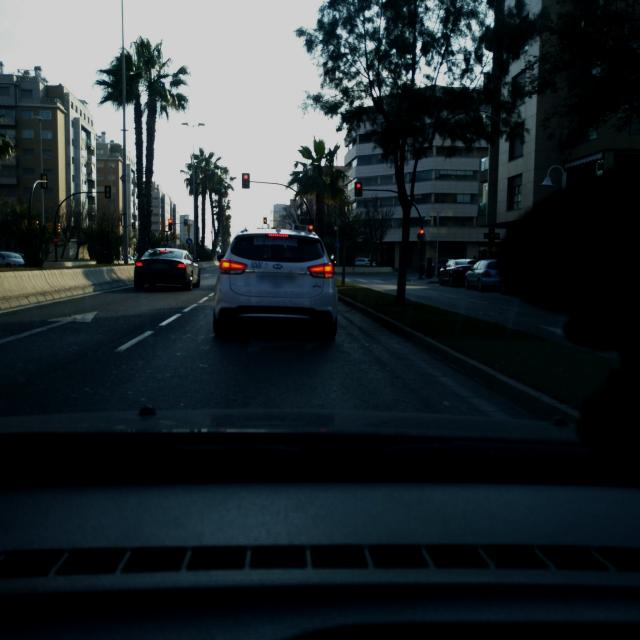car: (212, 229, 338, 339), (133, 247, 201, 291), (463, 258, 505, 292), (438, 258, 478, 287), (0, 250, 25, 267), (354, 257, 374, 267)
